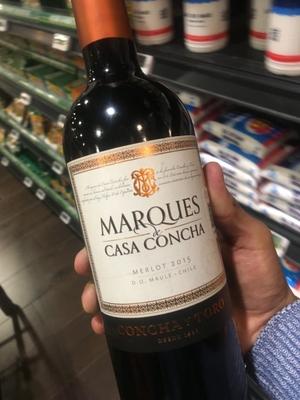marques de casa concha merlot: (49, 8, 243, 386)
